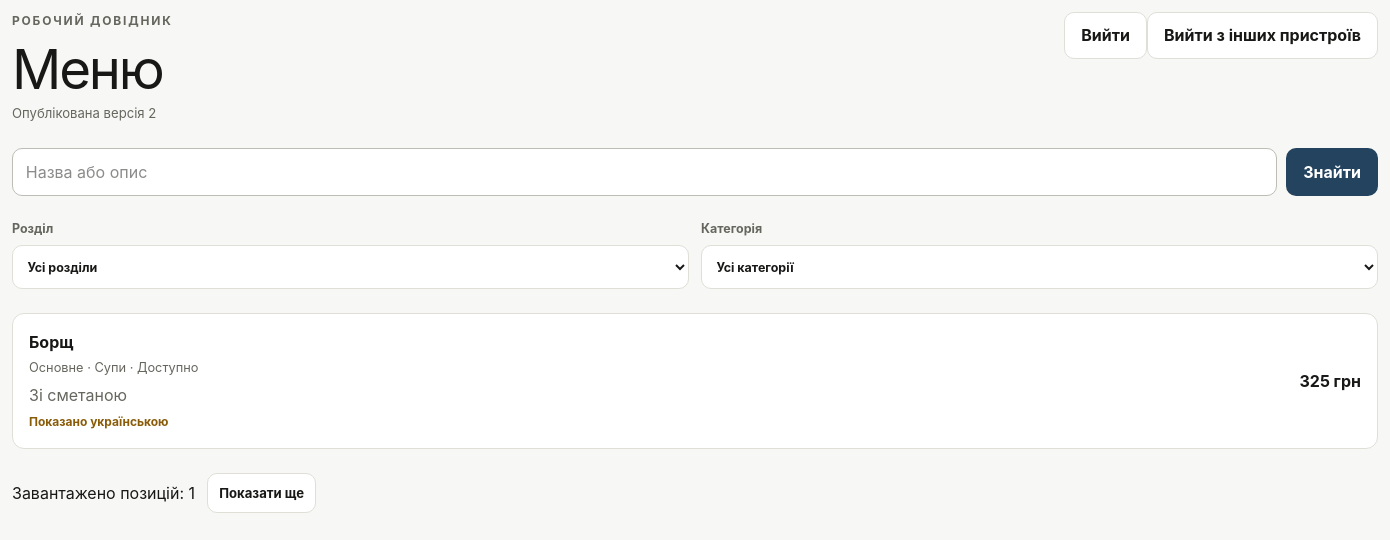
Test: Employee published Menu › requires a fresh read when the Published version changes between pages
Expected: the text "Борщ" is shown, [29,332,74,352]
Click the button "Показати ще". click: (262, 494)
box: [207,474,316,514]
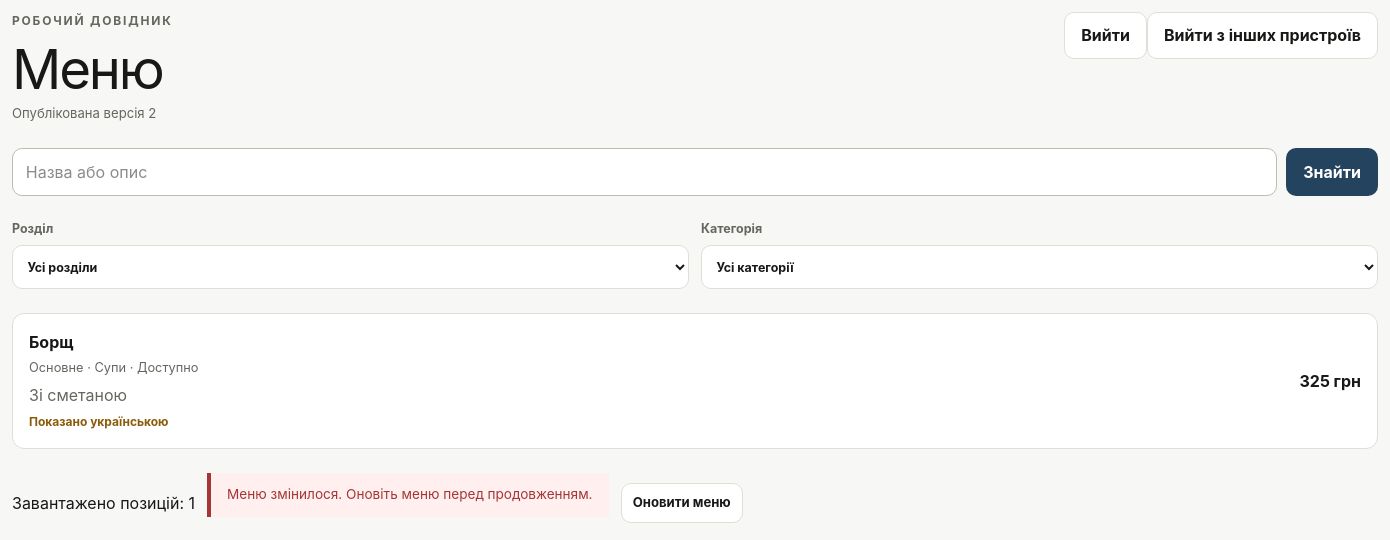
Now the message shows "Меню змінилося", box [227,486,593,502]
Now the button "Показати ще" is gone
Now the button "Оновити меню" is shown, box [620,483,743,523]
